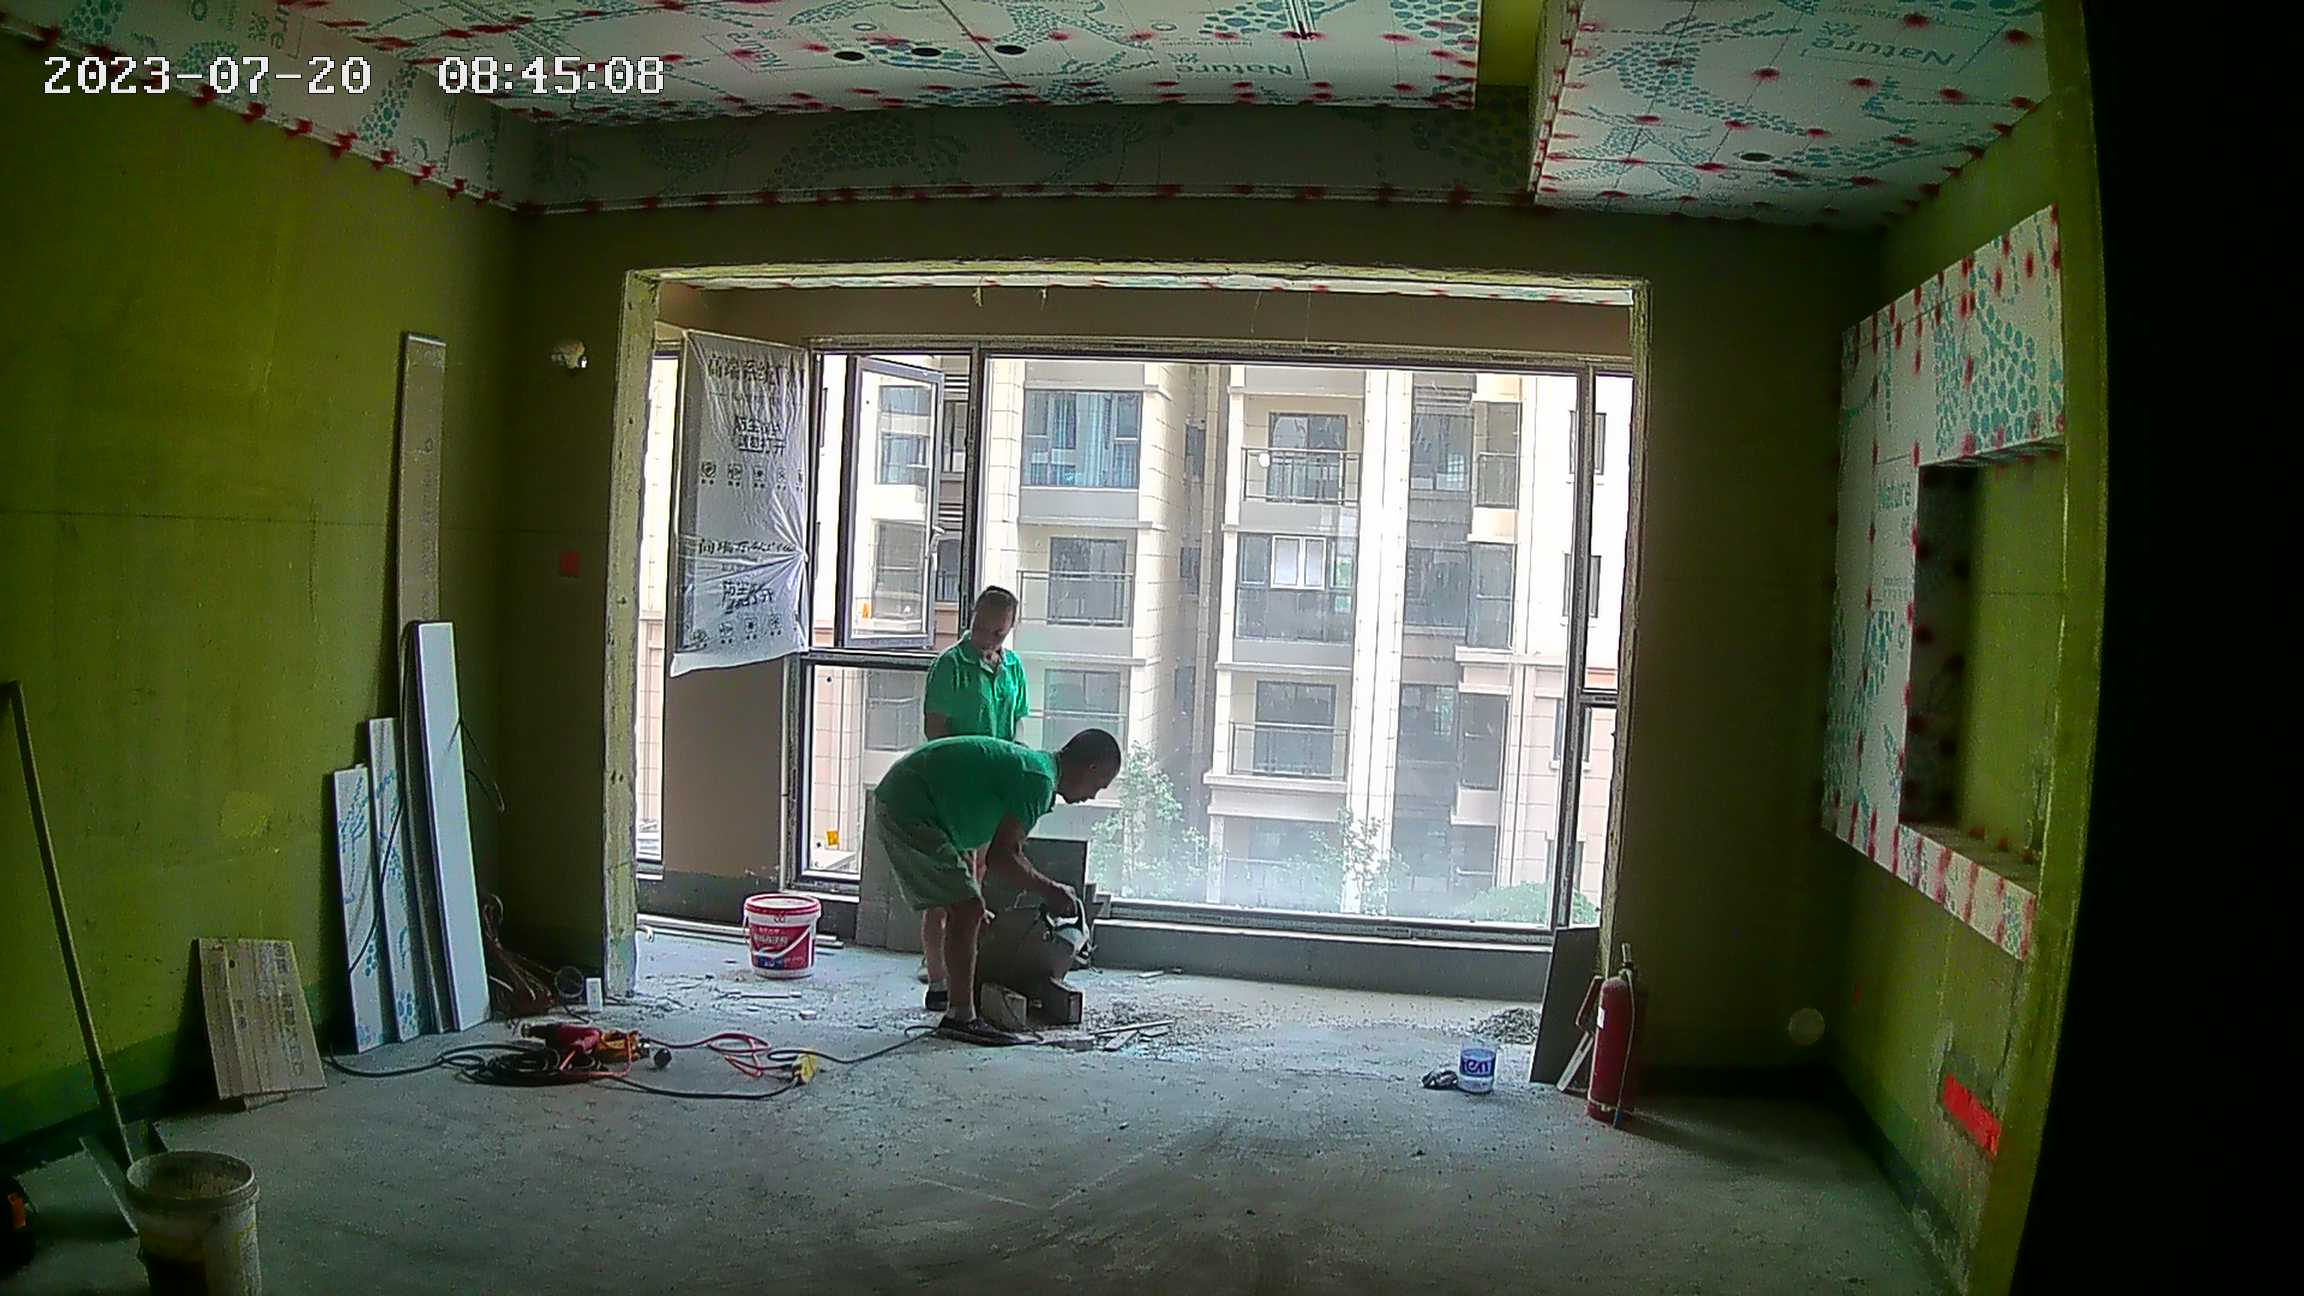people: (873, 719, 1126, 1052), (922, 585, 1036, 741)
window: (802, 352, 1623, 967)
